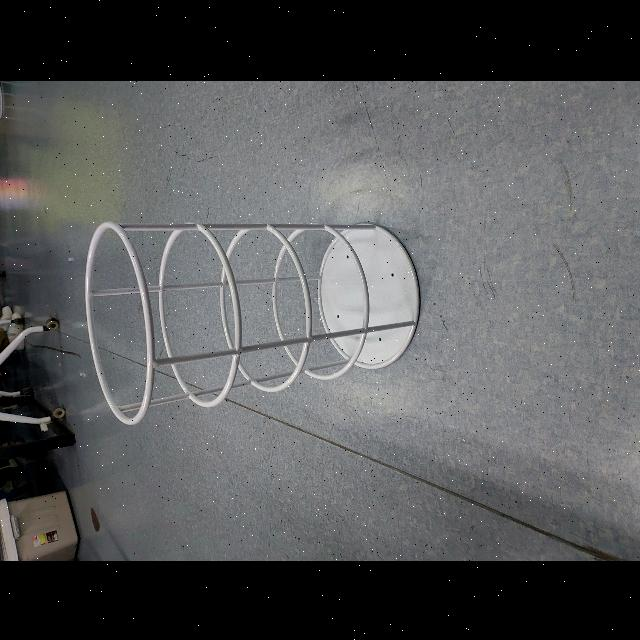S: (83, 212, 423, 428)
